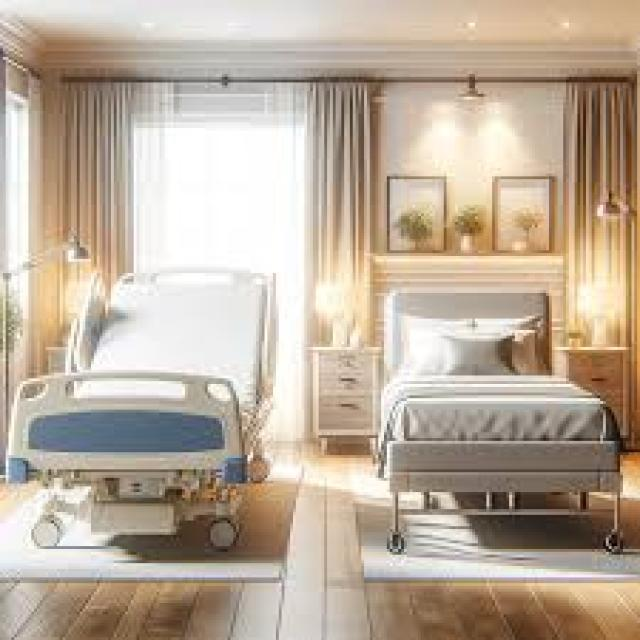bed: (3, 267, 276, 549), (372, 287, 624, 555)
